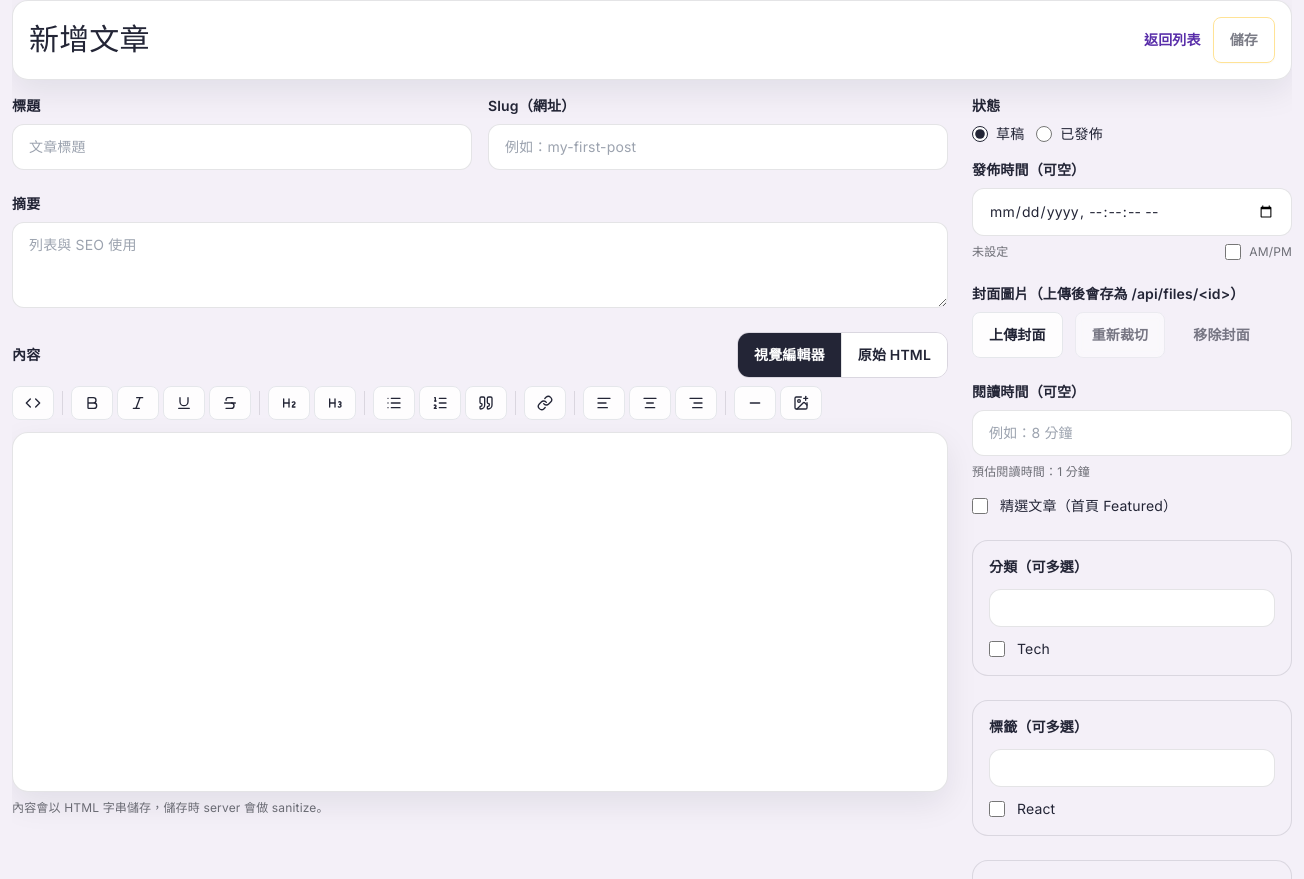
Test: AdminPostForm › authoring mode selector (4.1) › renders mutually exclusive visual/raw options where selecting one deselects the other
Expected: the radio button labelled "視覺編輯器" is checked, [738,333,841,377]
Click the radio button labelled "原始 HTML".
click(894, 355)  # box [841,333,947,377]
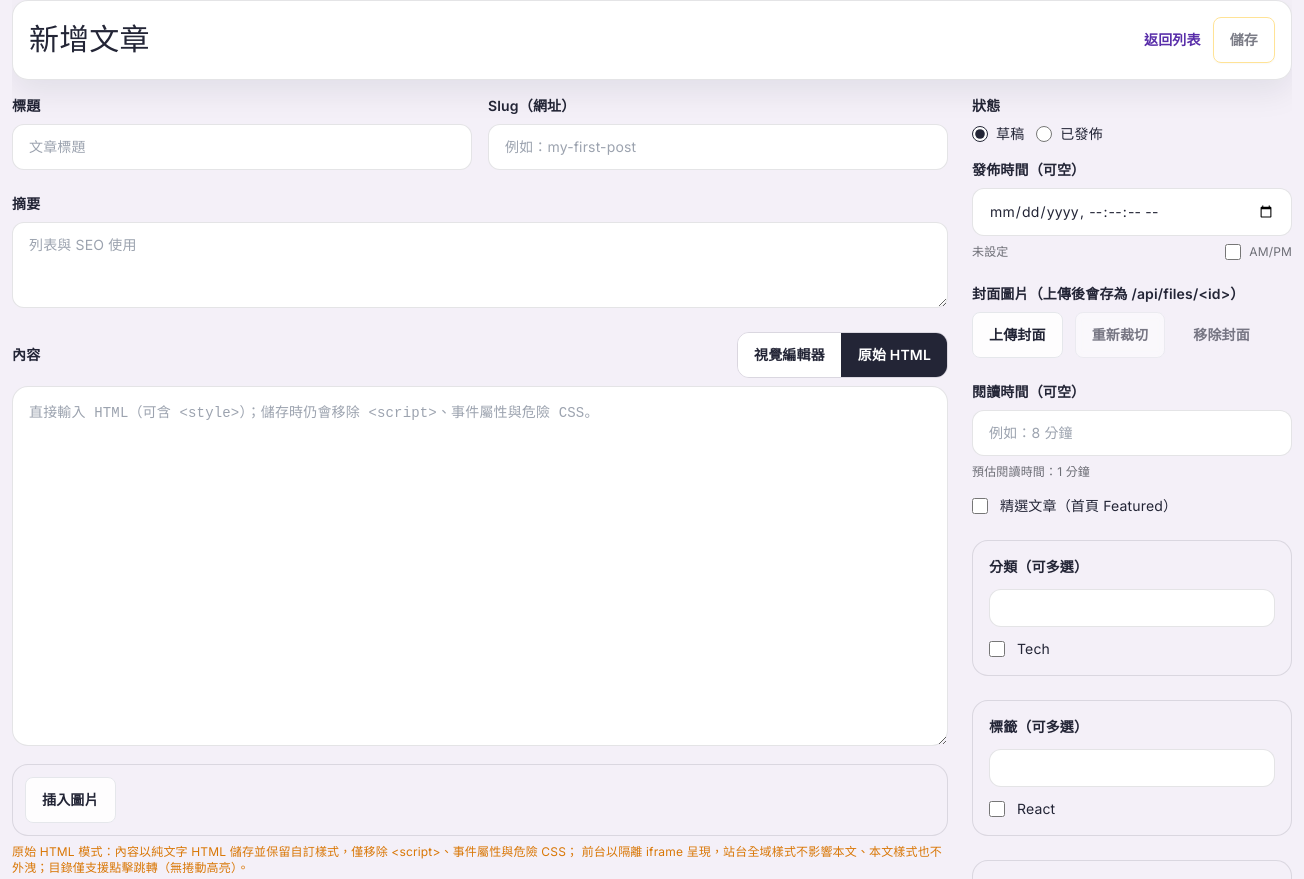
Now the radio button labelled "原始 HTML" is checked, box [841,333,947,377]
Now the radio button labelled "視覺編輯器" is not checked, box [738,333,841,377]
